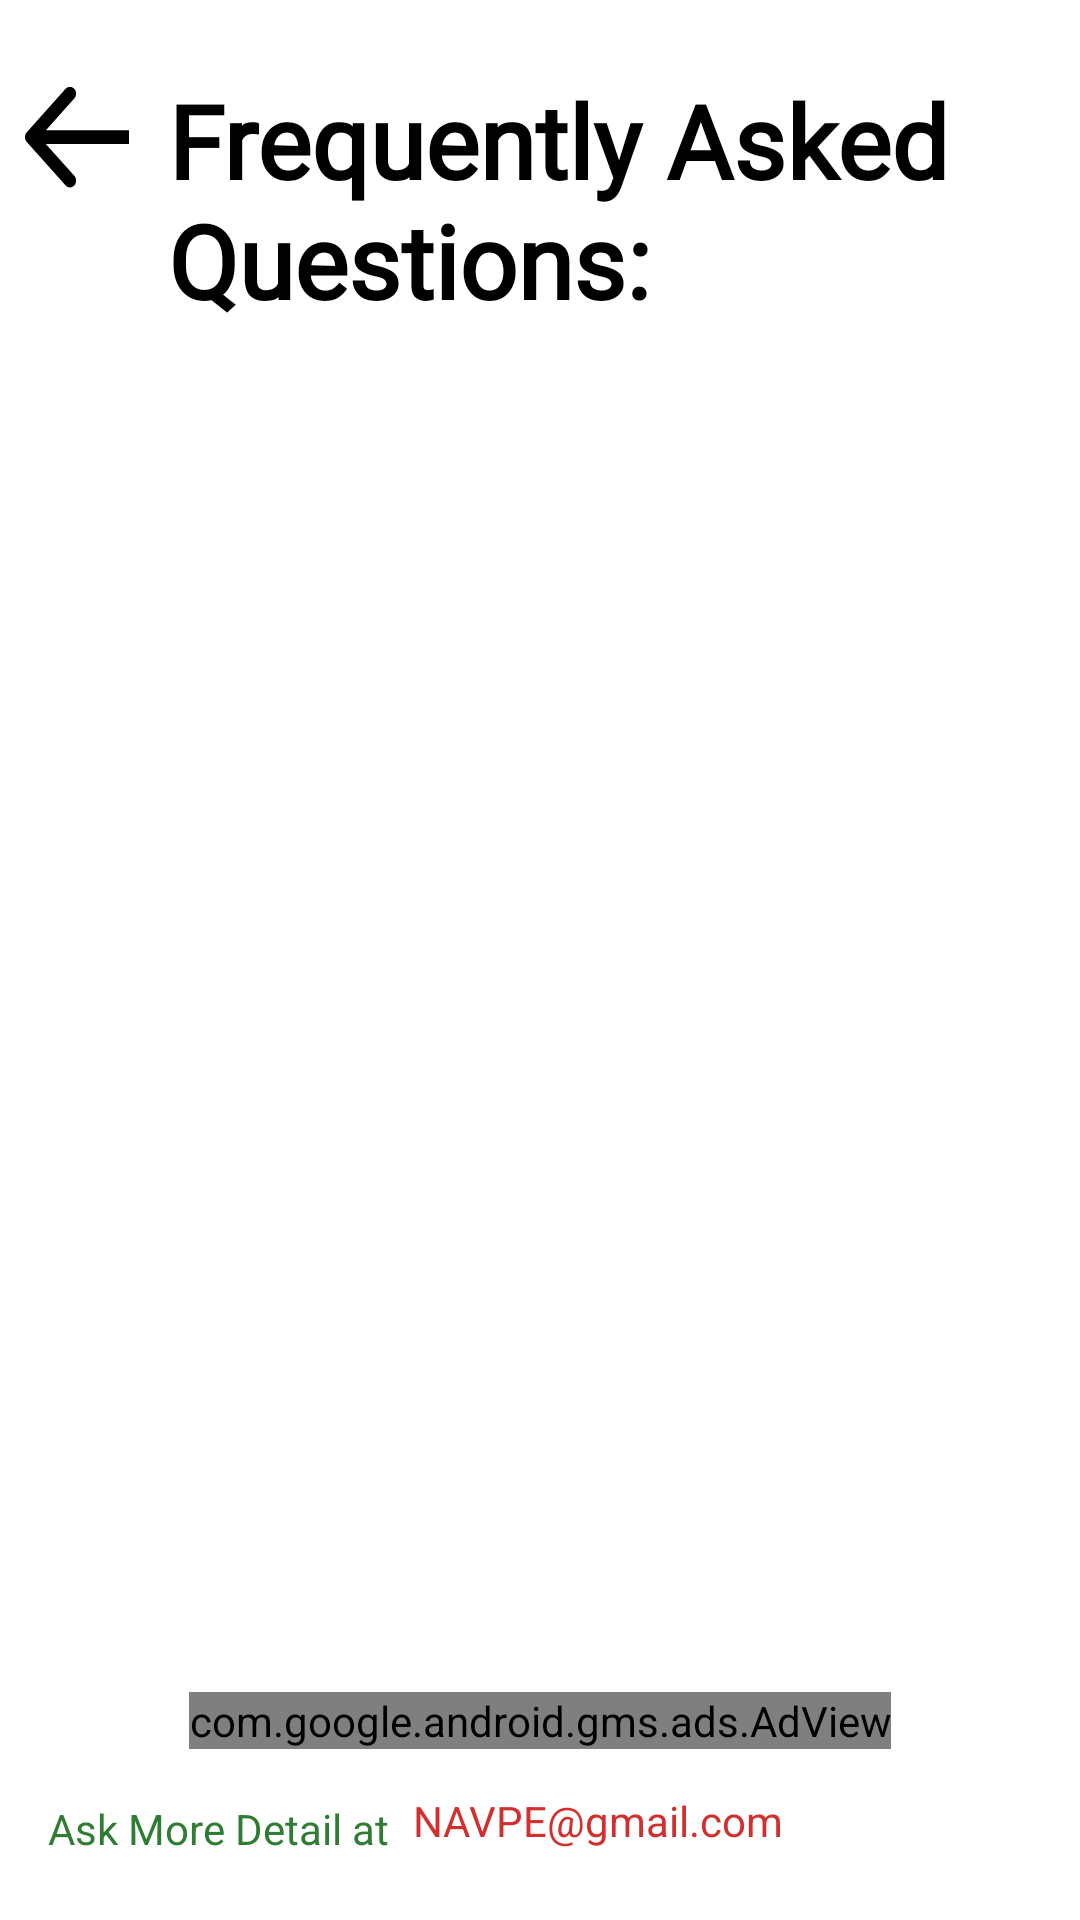

Where icons sit on this 1080 x 1920 app screen, as (x1, y1, x2, y2):
Back: (25, 87, 129, 188)
